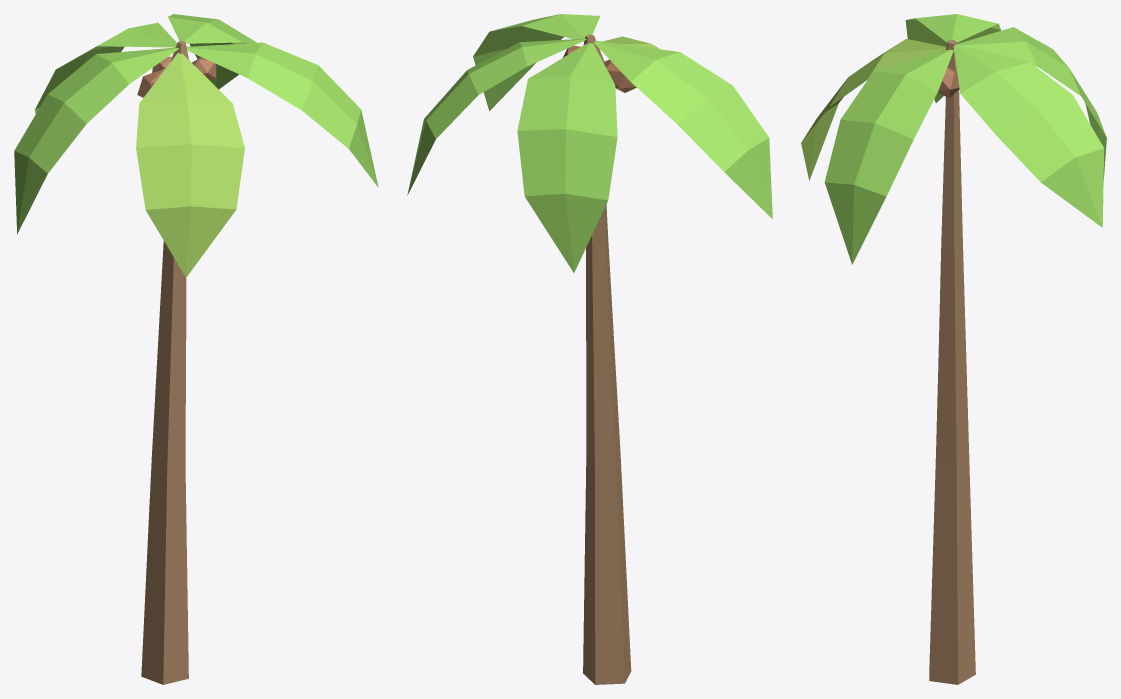
The model's file is Palm_Tree_Coconut_OneSided_s_01_LOD.fbx.
The picture shows the model from 3 angles, left to right: view 1: azimuth 30°, elevation 25°; view 2: azimuth 150°, elevation 25°; view 3: azimuth 270°, elevation 25°; orthographic projection. The views are drawn at different scales.
Visible parts, largest first — view 1: Palm_Tree_Coconut_OneSided_s_01_LOD0; view 2: Palm_Tree_Coconut_OneSided_s_01_LOD0; view 3: Palm_Tree_Coconut_OneSided_s_01_LOD0.
Boxes of the visible parts, x1,y1,x2,y2 form: Palm_Tree_Coconut_OneSided_s_01_LOD0: (14,14,378,684); Palm_Tree_Coconut_OneSided_s_01_LOD0: (407,14,772,684); Palm_Tree_Coconut_OneSided_s_01_LOD0: (801,14,1106,684).
Size of what is drawn, in the model's own units: 249 by 465 by 201.
